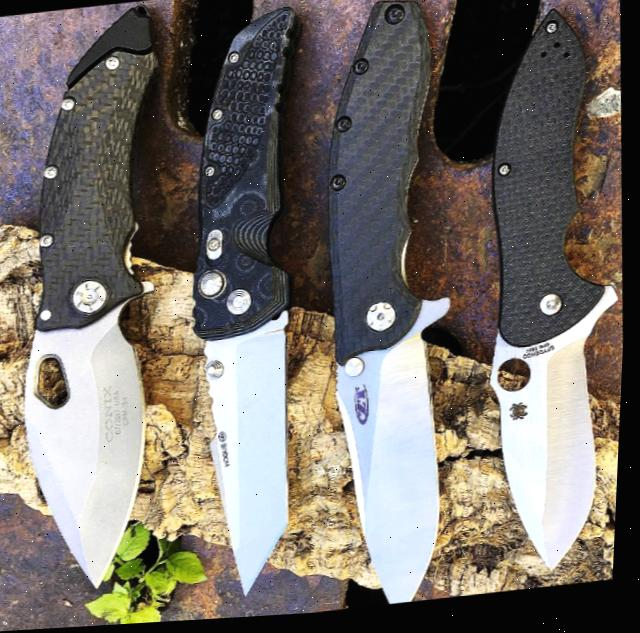pocket-knife: (292, 0, 493, 617), (0, 0, 196, 595), (164, 0, 343, 610), (463, 0, 639, 584)
